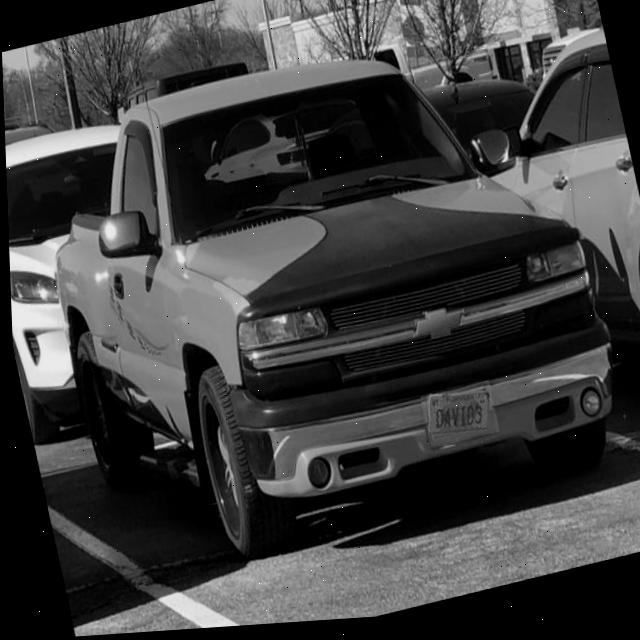LicensePlate: (425, 396, 488, 445)
